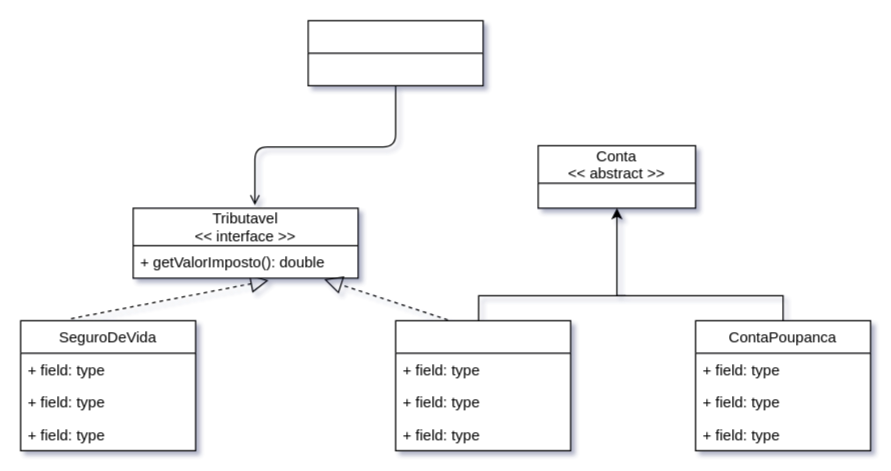
Some shapes in this 891 by 471 pixel diagram are drawn without their labels. Here are the shapes that lost their labels. From the top down, the box of each, then its label:
(307, 19, 483, 86): CalculaImposto
(394, 319, 571, 451): ContaCorrente
